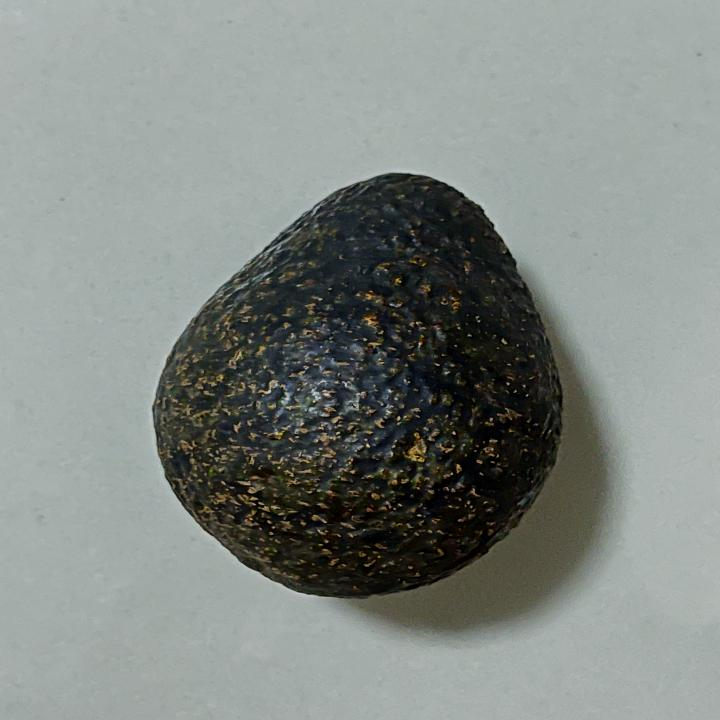Level2: (143, 164, 575, 606)
